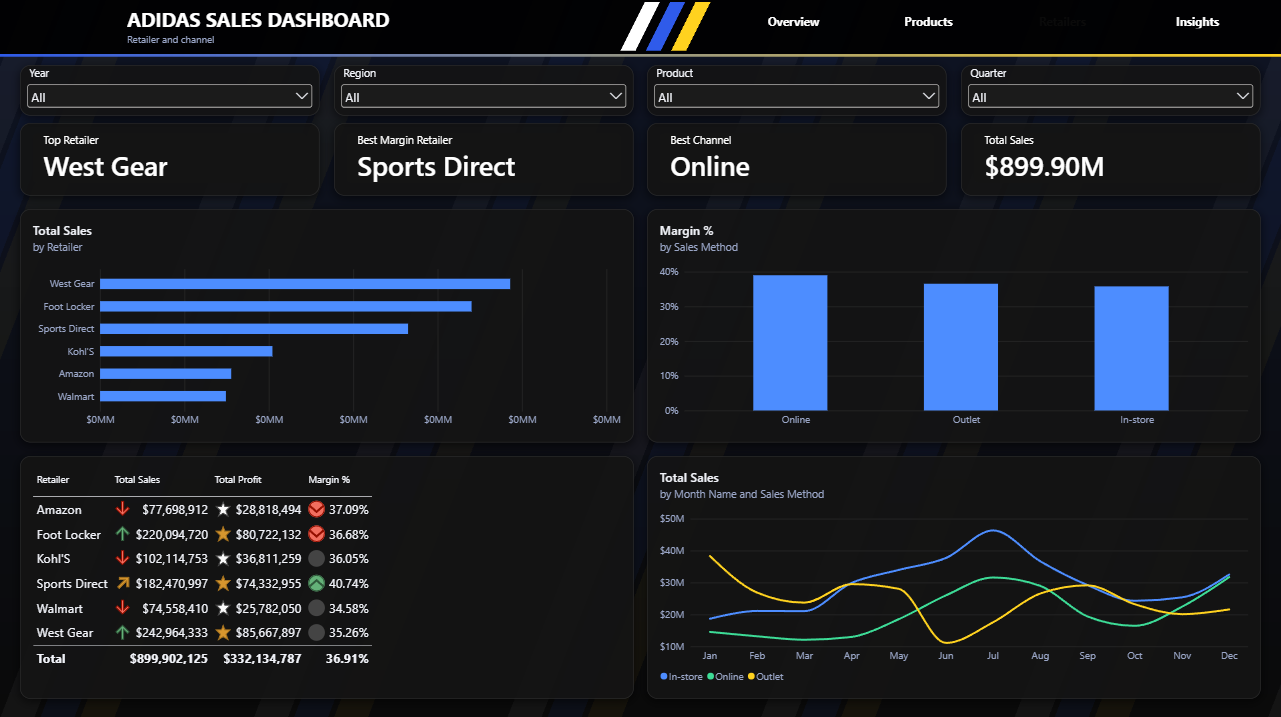

The page's visual inventory and layout, read from the dashboard file:
{"tool":"powerbi","page":{"name":"Retailer and channel","canvas":[1920,1080],"ordinal":2},"visuals":[{"type":"slicer","fields":{"Values":["Dim_Date.Quarter"]},"box":[1440,100.7,449.4,75.9],"z":0},{"type":"cardVisual","fields":{"Data":["_Measures.Top Retailer"]},"box":[30.6,186.7,449.4,109.4],"z":1000},{"type":"cardVisual","fields":{"Data":["_Measures.Total Sales"]},"box":[1440,186.7,449.4,109.4],"z":2000},{"type":"cardVisual","fields":{"Data":["_Measures.Best Margin Retailer"]},"box":[500.4,186.7,449.4,109.4],"z":3000},{"type":"cardVisual","fields":{"Data":["_Measures.Best Channel"]},"box":[970.2,186.7,449.4,109.4],"z":4000},{"type":"slicer","fields":{"Values":["Fact_Sales.Product"]},"box":[970.2,100.7,449.4,75.9],"z":5000},{"type":"slicer","fields":{"Values":["Fact_Sales.Region"]},"box":[500.4,100.7,449.4,75.9],"z":6000},{"type":"slicer","fields":{"Values":["Dim_Date.Year"]},"box":[30.6,100.7,449.4,75.9],"z":7000},{"type":"barChart","fields":{"Category":["Fact_Sales.Retailer"],"Y":["_Measures.Total Sales"]},"box":[30,316,920,350],"z":8000},{"type":"columnChart","fields":{"Category":["Fact_Sales.Sales Method"],"Y":["_Measures.Margin %"]},"box":[970,316,920,350],"z":9000},{"type":"tableEx","fields":{"Values":["Fact_Sales.Retailer","_Measures.Total Sales","_Measures.Total Profit","_Measures.Margin %"]},"box":[30,686,920,364],"z":10000},{"type":"lineChart","fields":{"Category":["Dim_Date.Month Name"],"Series":["Fact_Sales.Sales Method"],"Y":["_Measures.Total Sales"]},"box":[970,686,920,364],"z":11000},{"type":"textbox","box":[190,12,720,62],"z":12000},{"type":"pageNavigator","box":[1104.4,17.5,800,50],"z":12001}]}

Visuals, with their boxes in screenshot pixels (x1, y1, x2, y2), scaled from the page's 1920x1080 canvas onto the 1281x717 screenshot:
slicer - Dim_Date.Quarter: <box>961,67,1261,117</box>
cardVisual - _Measures.Top Retailer: <box>20,124,320,197</box>
cardVisual - _Measures.Total Sales: <box>961,124,1261,197</box>
cardVisual - _Measures.Best Margin Retailer: <box>334,124,634,197</box>
cardVisual - _Measures.Best Channel: <box>647,124,947,197</box>
slicer - Fact_Sales.Product: <box>647,67,947,117</box>
slicer - Fact_Sales.Region: <box>334,67,634,117</box>
slicer - Dim_Date.Year: <box>20,67,320,117</box>
barChart - Fact_Sales.Retailer x _Measures.Total Sales: <box>20,210,634,442</box>
columnChart - Fact_Sales.Sales Method x _Measures.Margin %: <box>647,210,1261,442</box>
tableEx - Fact_Sales.Retailer x _Measures.Total Sales: <box>20,455,634,697</box>
lineChart - Dim_Date.Month Name x Fact_Sales.Sales Method: <box>647,455,1261,697</box>
textbox: <box>127,8,607,49</box>
pageNavigator: <box>737,12,1271,45</box>
